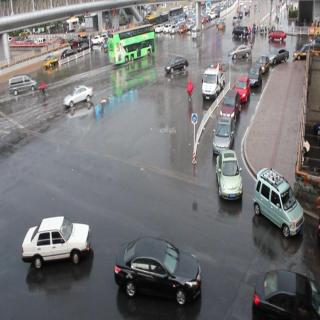BigCar: (106, 25, 160, 64)
Car: (113, 230, 205, 306), (251, 259, 320, 320), (21, 218, 95, 272), (254, 164, 303, 235), (215, 151, 243, 202), (211, 116, 240, 155), (202, 60, 227, 99), (62, 85, 94, 111), (6, 73, 40, 97), (220, 85, 241, 122), (161, 51, 191, 75), (293, 41, 318, 60), (248, 63, 264, 90), (234, 74, 250, 100), (227, 44, 252, 60), (40, 53, 60, 71), (267, 27, 289, 43), (270, 46, 289, 64), (256, 54, 271, 72), (232, 25, 248, 41), (60, 47, 74, 62), (190, 26, 203, 40)
